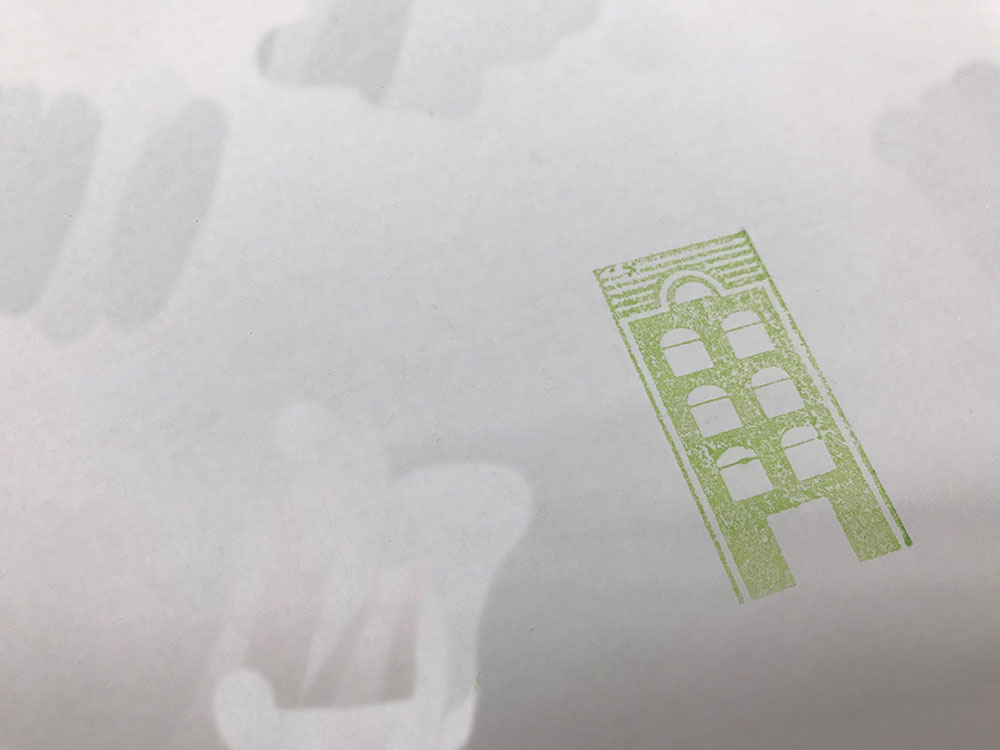build: (578, 225, 934, 613)
